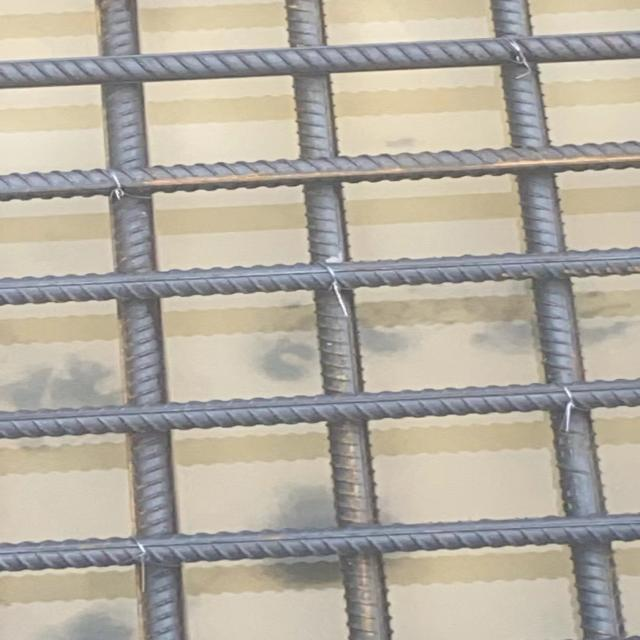ribbed bar: (488, 0, 627, 639), (288, 0, 396, 639), (94, 0, 186, 639), (0, 378, 639, 441), (0, 140, 639, 202), (0, 245, 639, 307), (0, 511, 639, 573), (0, 29, 639, 90)
